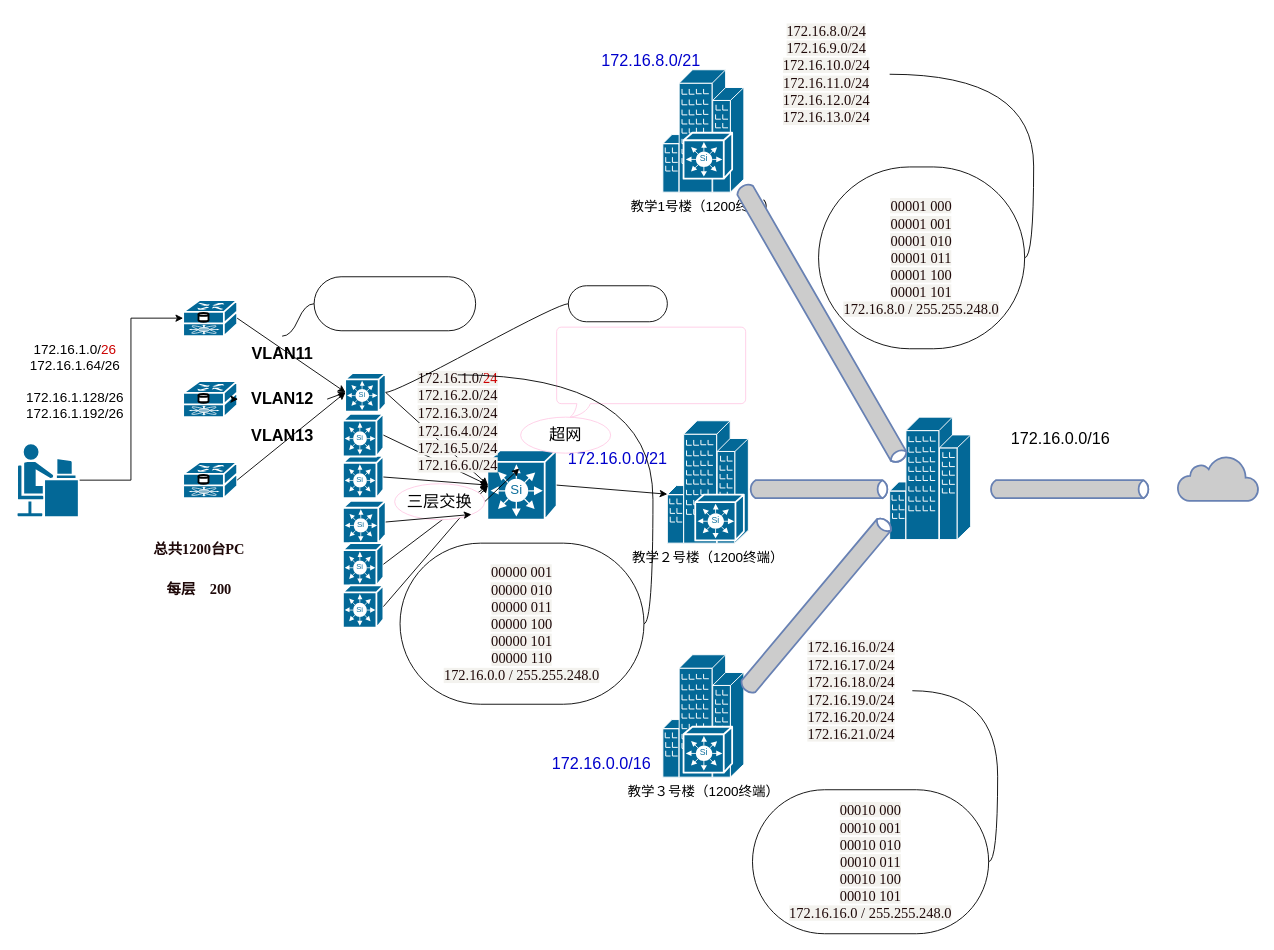
Some shapes in this 1274 by 950 pixel diagram are drawn without their labels. The shapes that lost their labels are listed below. From the top down, each one's centre as x and y in pixels, then its label:
At point 394,303: "vlan物理隔离 网段".
At point 617,303: "每一层楼".
At point 651,371: "解决核心网络访问控制条目过多 降低核心设备压力 将小的网络组成大的网络 看网络未对应的相同位，组成超网".
At point 929,478: "综合办公楼（400终端）".
